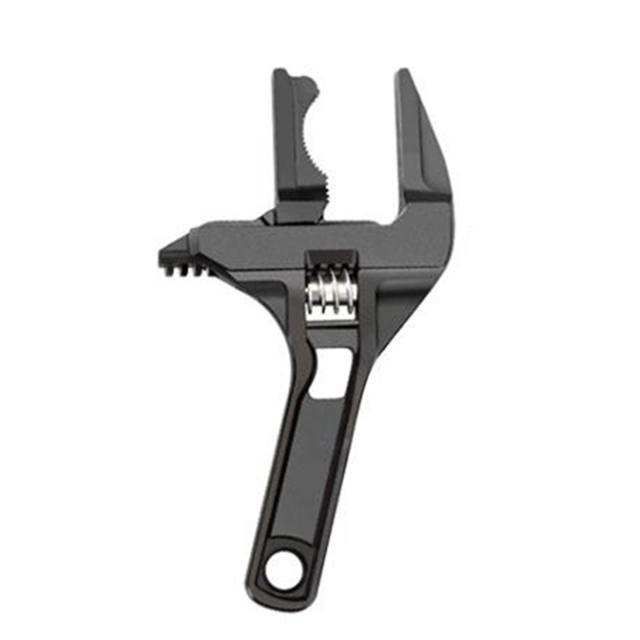wrench: (146, 66, 464, 618)
